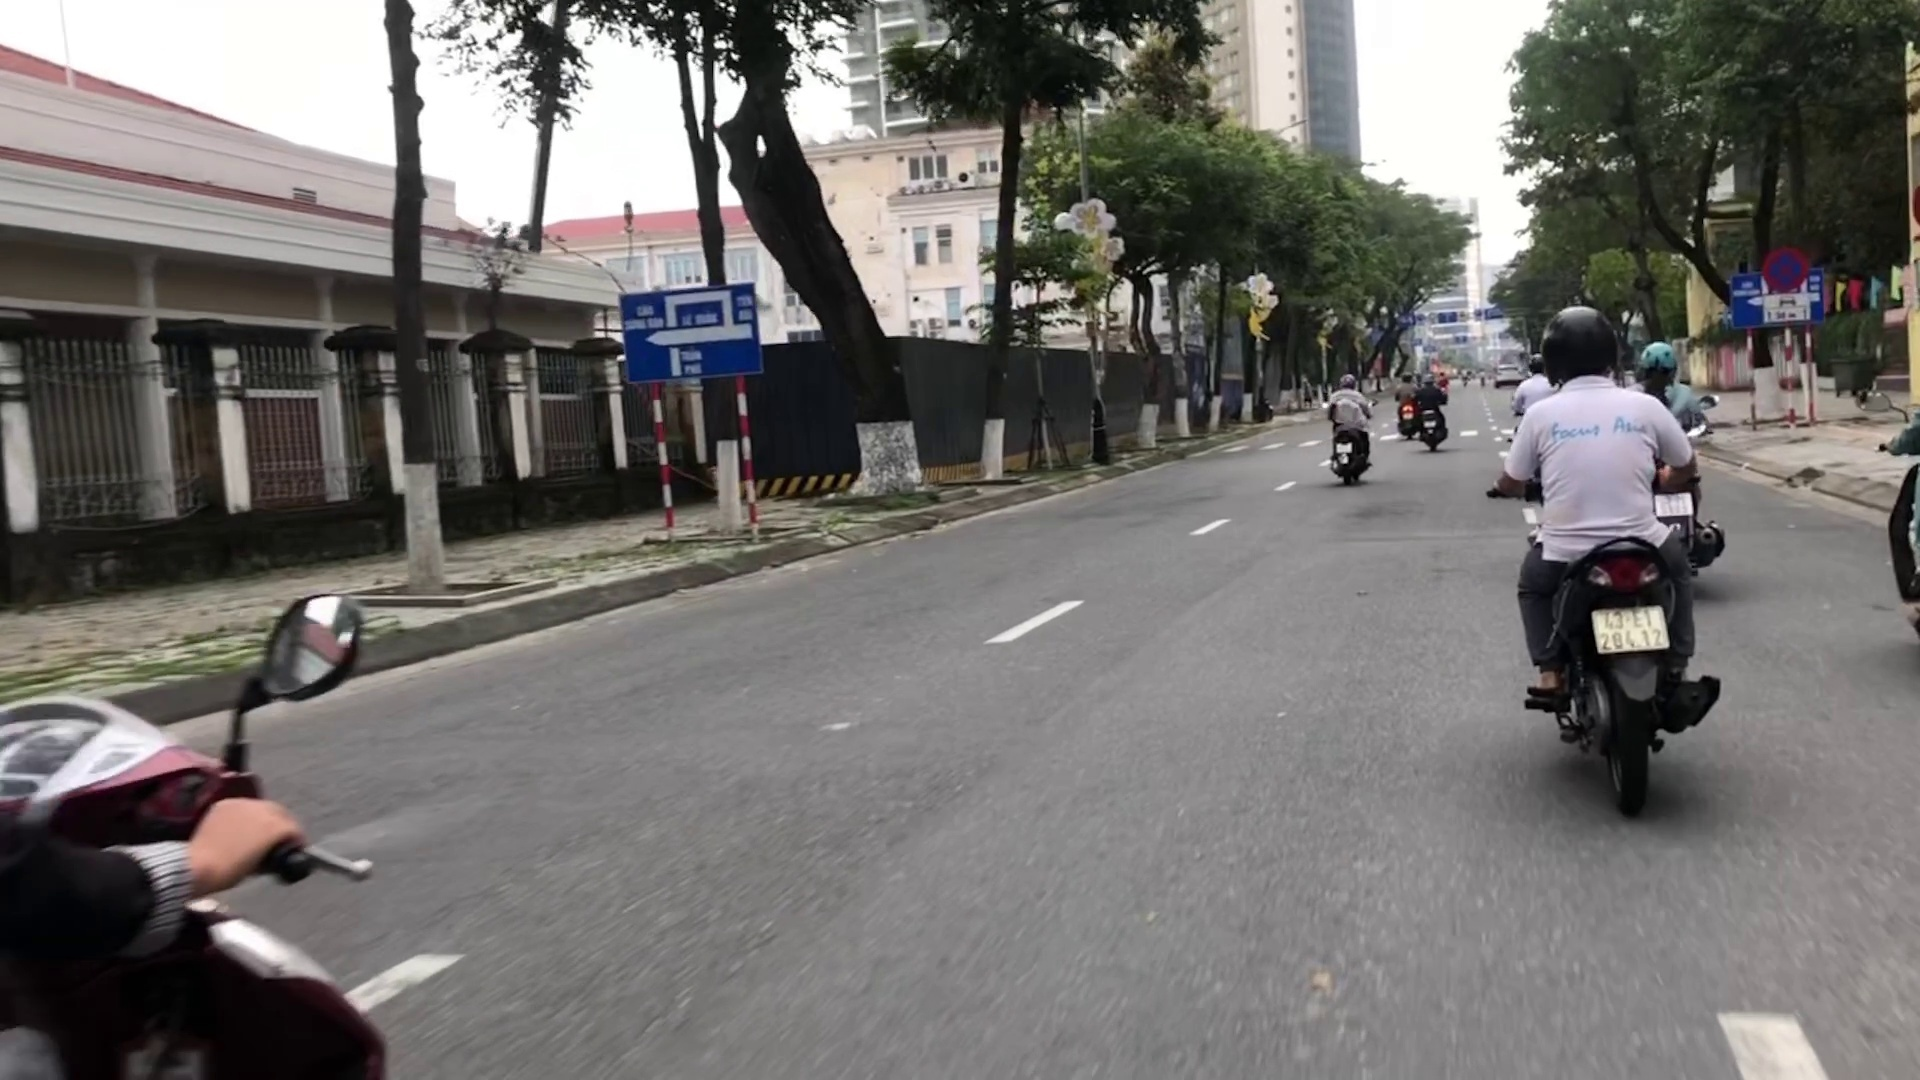Bien khac: (615, 281, 767, 381), (1763, 245, 1803, 286)
